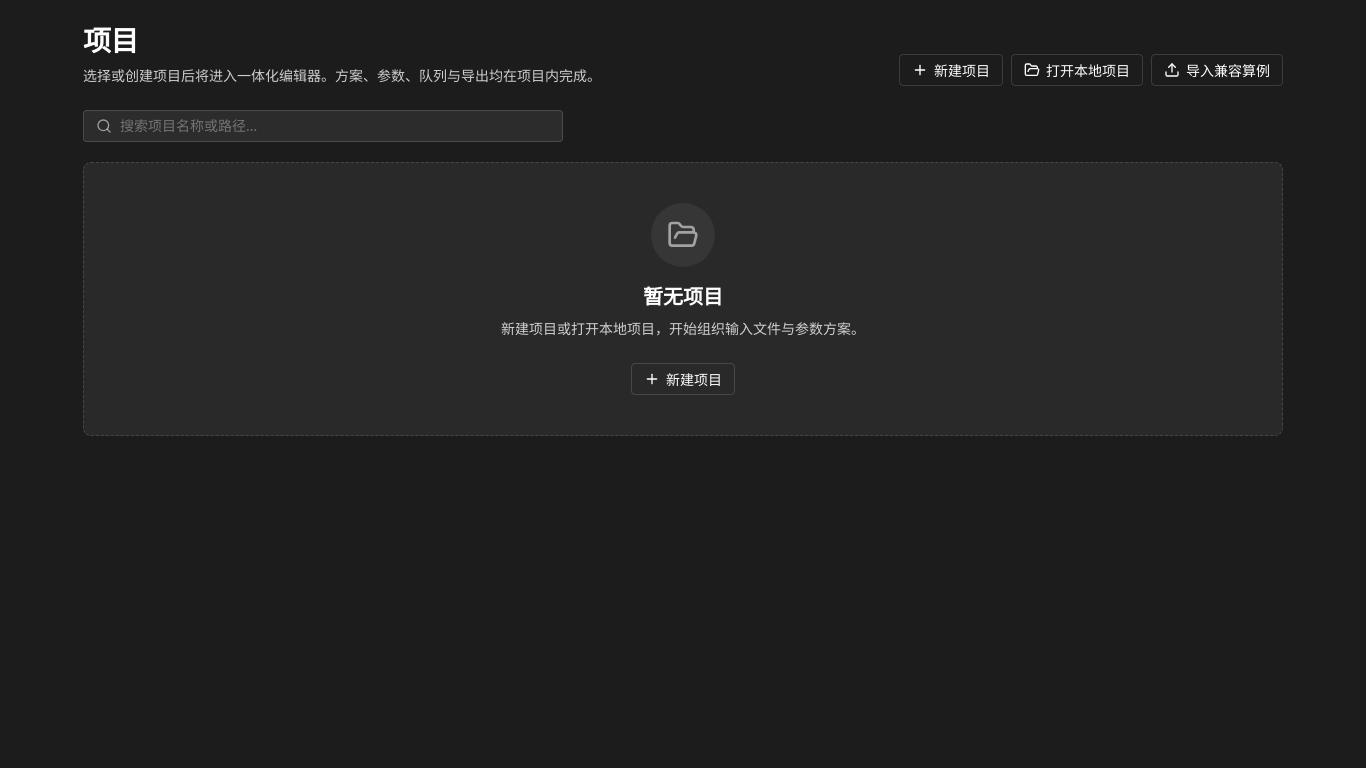
ProjectList directory selection › uses the Electron native picker without opening the browser directory dialog
Click the button "新建项目" in the row of "选择或创建项目后将进入一体化编辑器。方案、参数、队列与导出均在项目内完成。".
click(951, 70)  # box [899,54,1003,86]
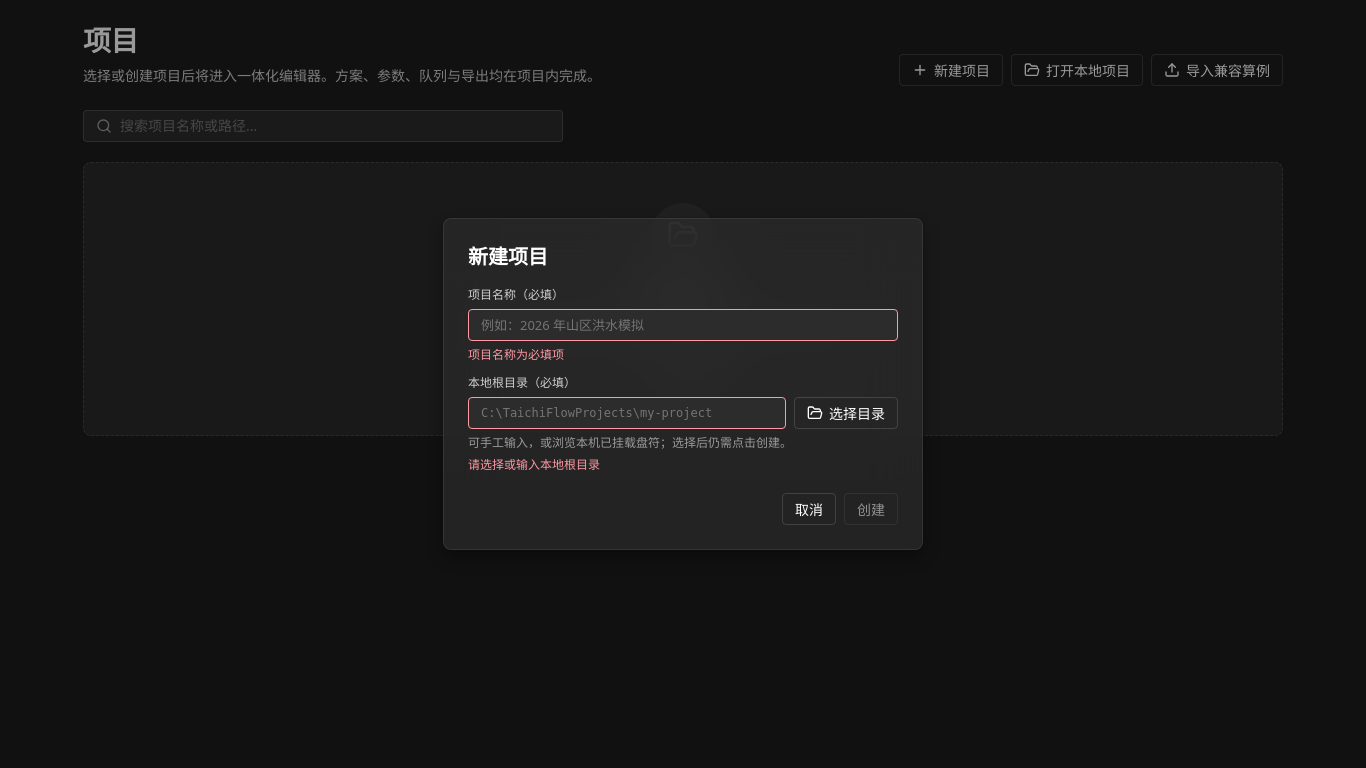
Click the button "选择目录".
click(846, 413)  # box [794,397,898,429]
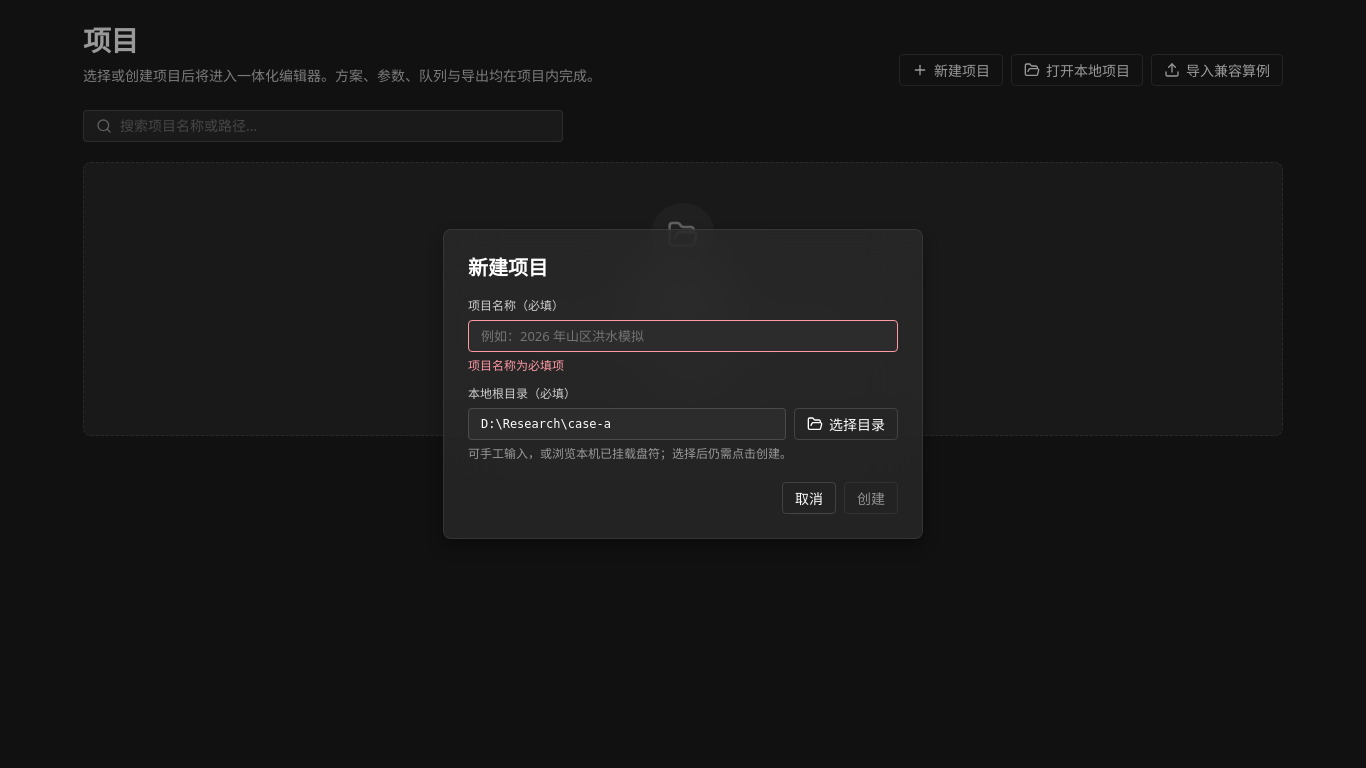
Expected: the field labelled "本地根目录（必填）" holds "D:\\Research\\case-a", [468,408,786,440]
